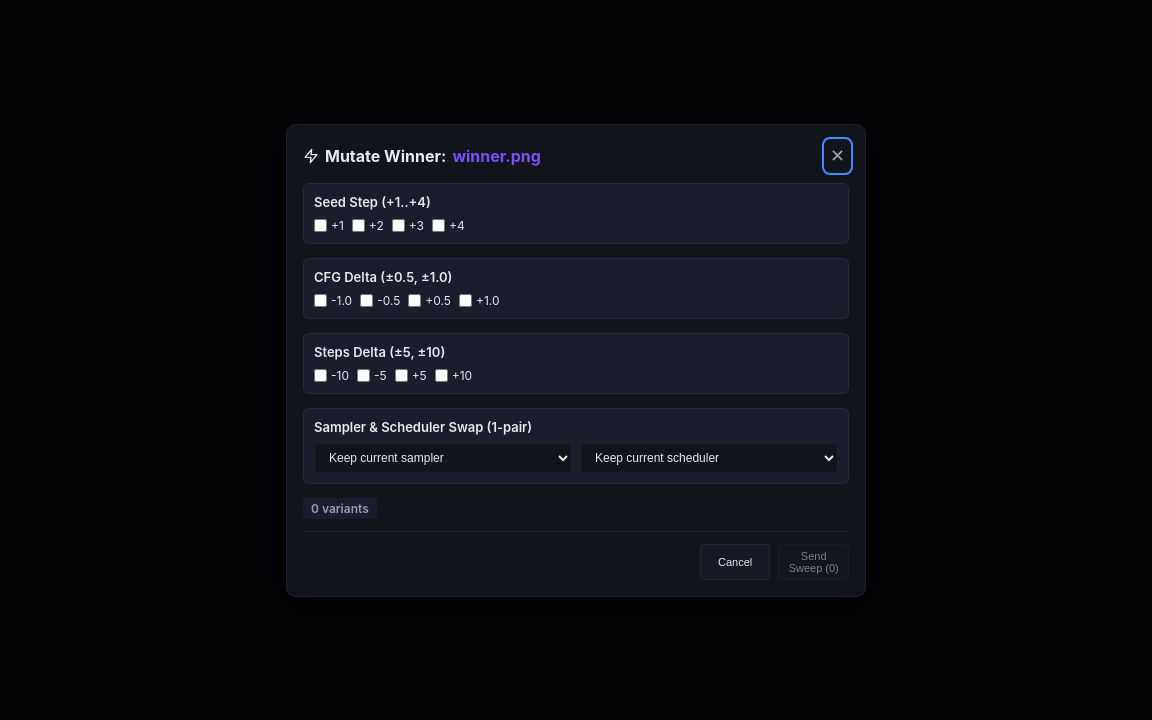
Test: MutationPopover sweep › clicking Stop after the first variant sends exactly one request and reports 'Stopped after 1 of N'
Click the checkbox with test id "checkbox-seed-1" at (320, 225), box top-left (314, 218), bottom-right (327, 232)
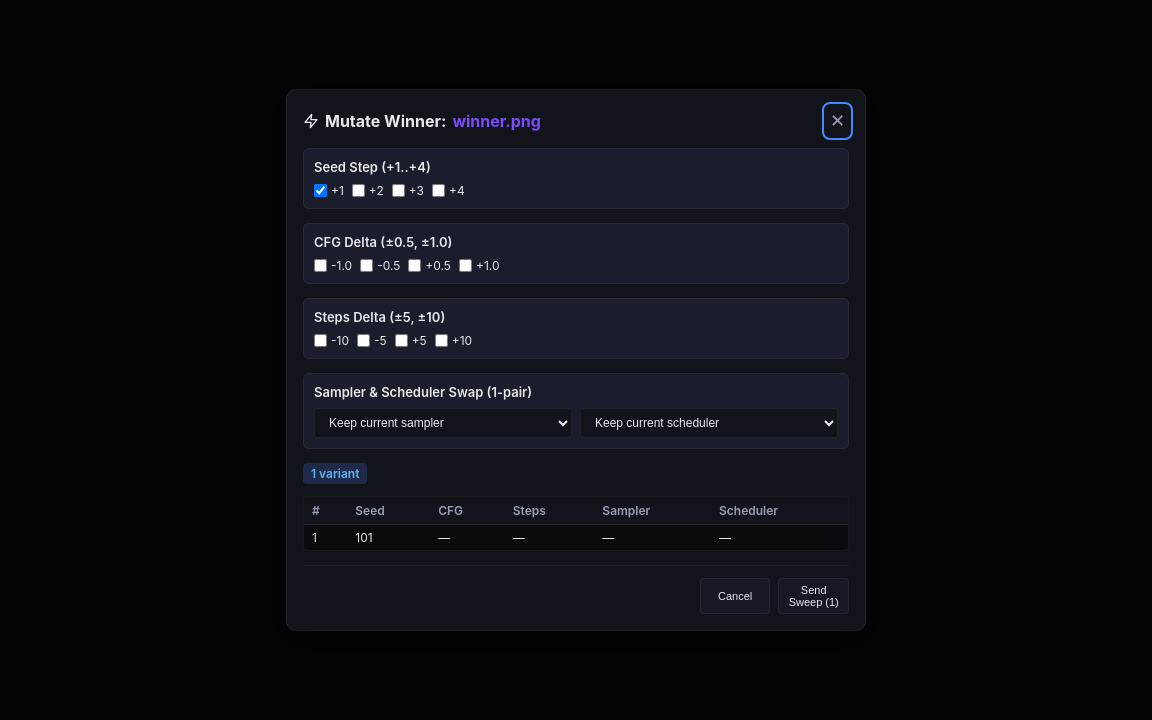
Click the checkbox with test id "checkbox-seed-2" at (358, 190), box top-left (352, 184), bottom-right (365, 197)
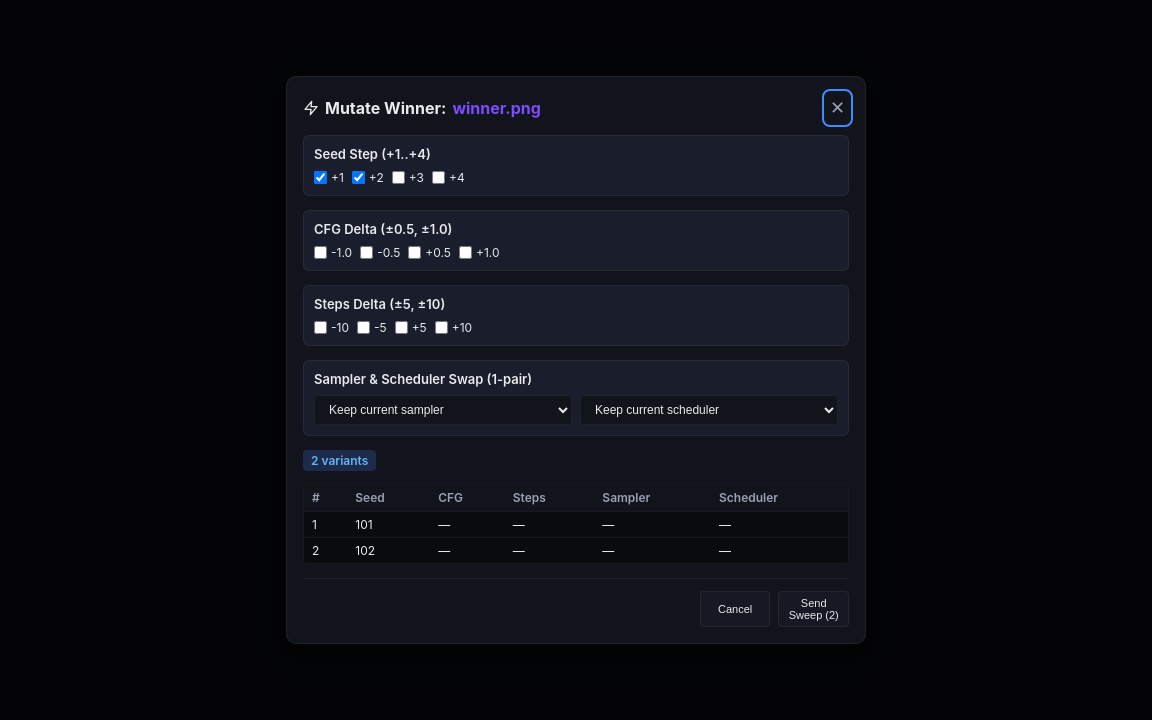
Click the button with test id "sweep-send-btn" at (814, 609), box top-left (778, 591), bottom-right (849, 627)
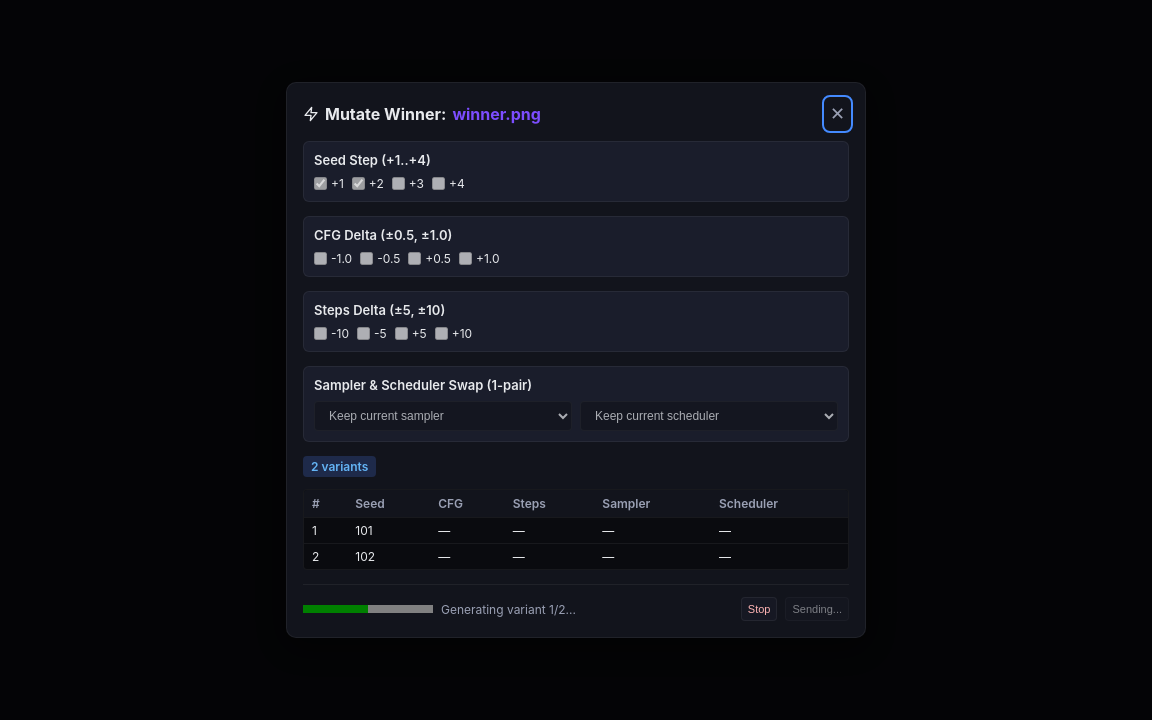
Click the button with test id "sweep-stop-btn" at (759, 609), box top-left (741, 597), bottom-right (777, 621)
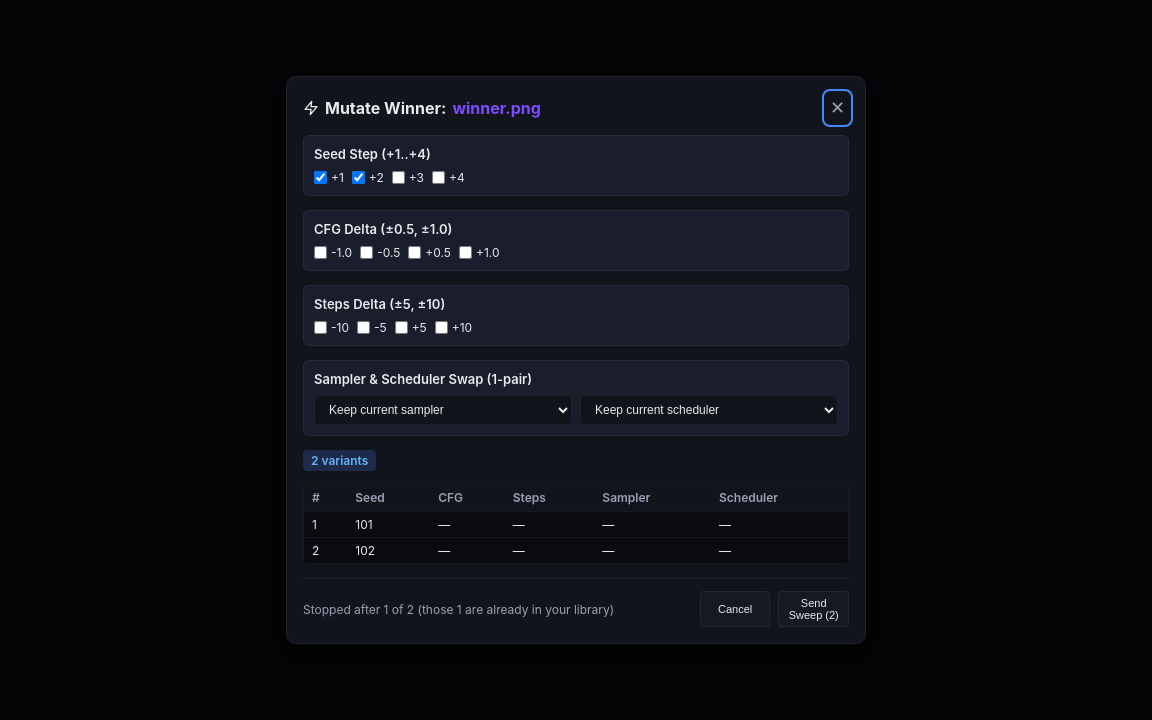
Expected: the text "Stopped after 1 of 2 (those 1 are already in your library)" is shown, top-left (303, 602), bottom-right (614, 616)
